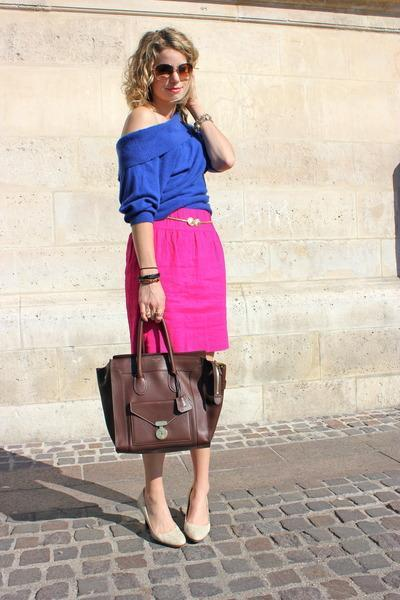bag: (96, 310, 226, 467)
shirt: (116, 115, 211, 227)
shoe: (132, 492, 209, 548)
skirt: (125, 208, 227, 352)
sunglass: (133, 52, 197, 102)
